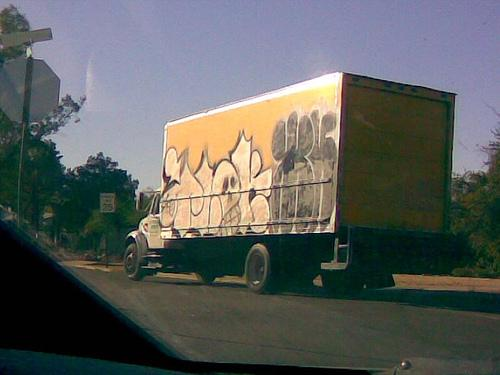truck: (123, 71, 458, 296)
